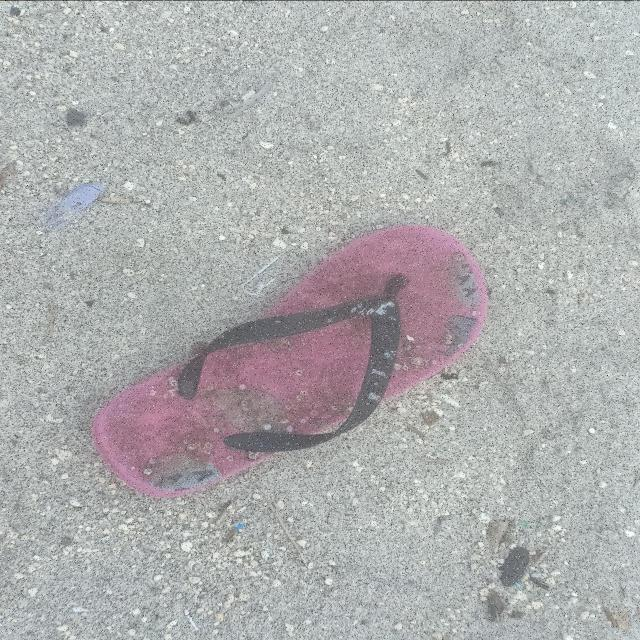rubber_waste: (94, 229, 490, 497)
